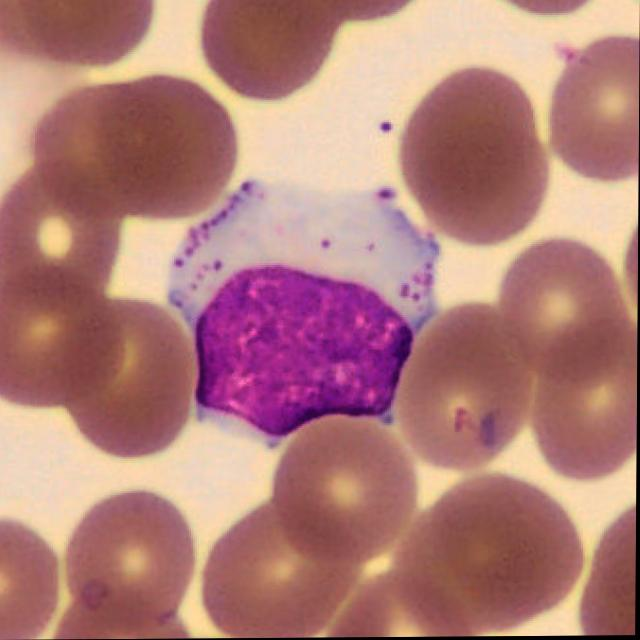Linfocito atipico: (169, 178, 440, 440)
